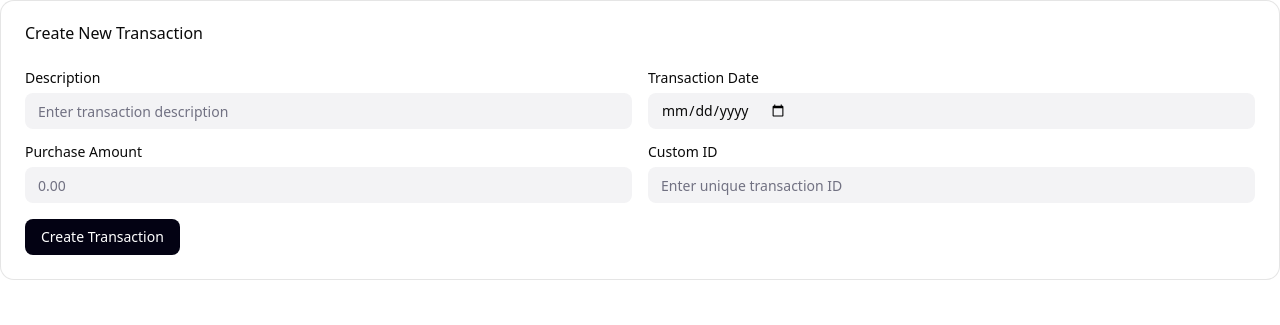
Test case: TransactionForm › handles API errors gracefully
// Fill form with valid data
Type "Test transaction" into the field labelled "Description" at (328, 111), box [25,93,632,129]
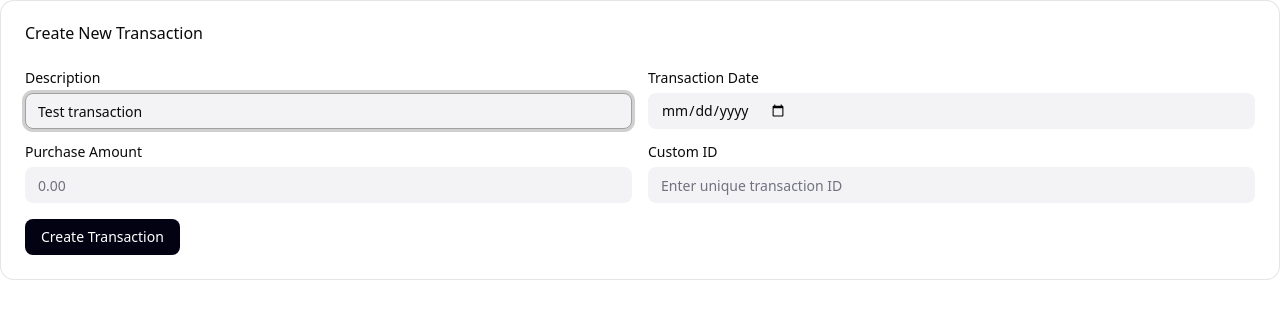
Type "2023-01-01" into the date field labelled "Transaction Date" at (952, 111), box [648,93,1255,129]
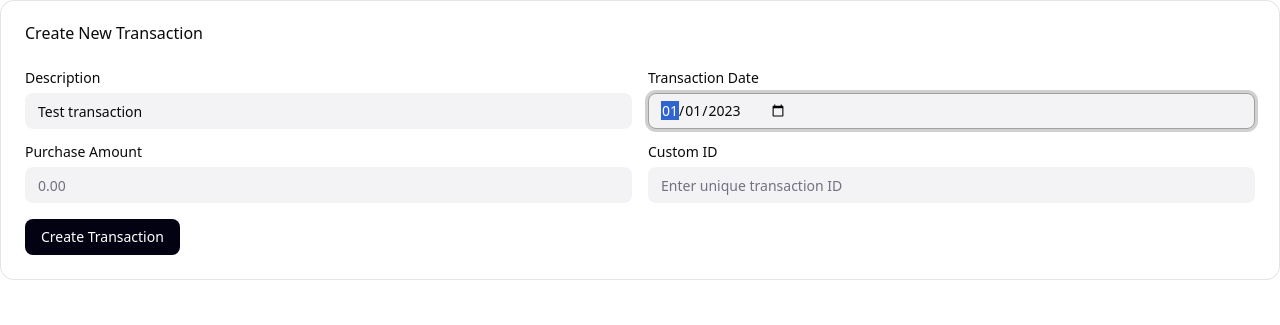
Type "100.50" into the number field labelled "Purchase Amount" at (328, 185), box [25,167,632,203]
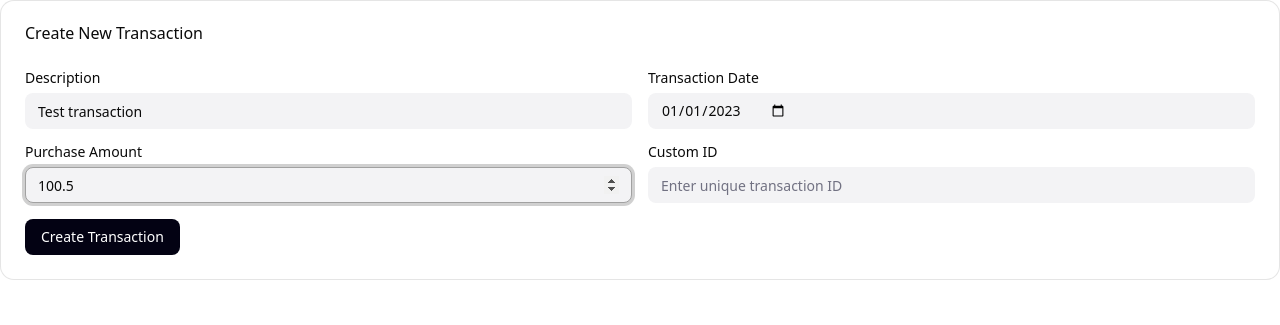
Type "unique-test-id" into the field labelled "Custom ID" at (952, 185), box [648,167,1255,203]
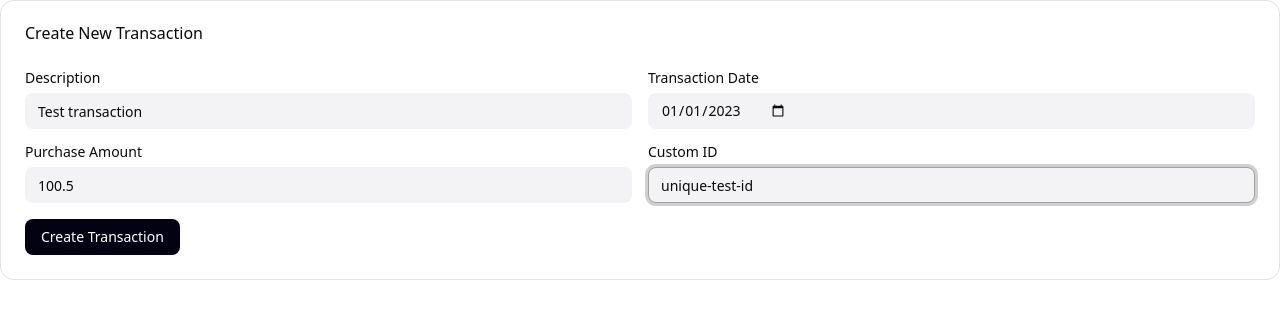
Click the button "Create Transaction" at (102, 237), box [25,219,180,255]
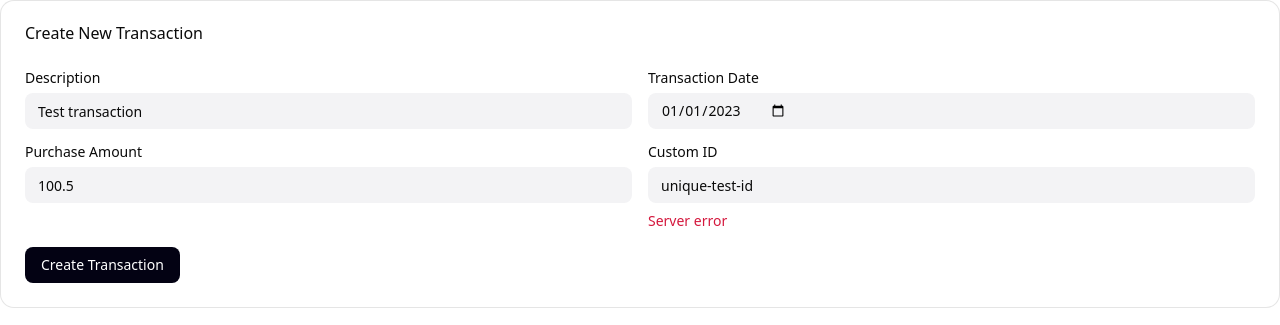
Now the text "Server error" is shown, box [648,211,727,230]
